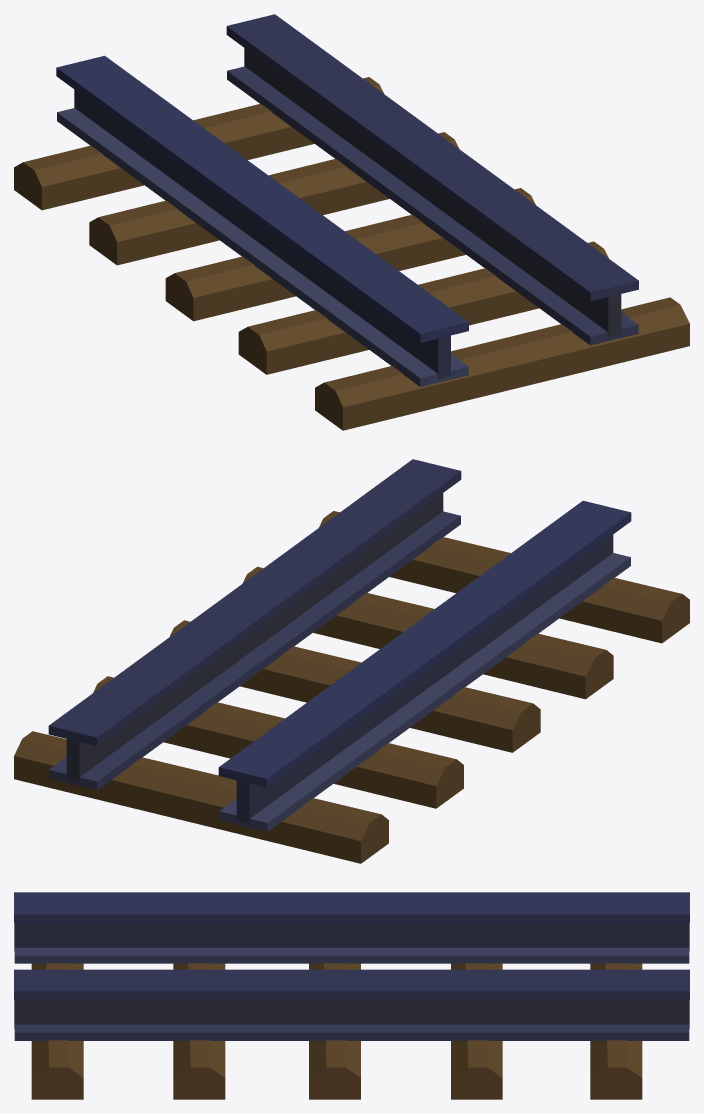
File: рельсы сегмент.fbx
The picture shows the model from 3 angles, top to bottom: view 1: azimuth 30°, elevation 25°; view 2: azimuth 150°, elevation 25°; view 3: azimuth 270°, elevation 25°; orthographic projection. The views are drawn at different scales.
Parts seen in each view (by area): view 1: Cube.002, Cube.001, Куб, Куб.001, Куб.002, Куб.003, Куб.004; view 2: Cube.001, Cube.002, Куб.004, Куб.002, Куб.001, Куб.003, Куб; view 3: Cube.001, Cube.002, Куб, Куб.004, Куб.001, Куб.002, Куб.003.
Boxes of the visible parts, left/top/right/bottom form: Cube.002: left=226, top=14, right=638, bottom=345; Cube.001: left=56, top=55, right=468, bottom=386; Куб: left=315, top=297, right=689, bottom=430; Куб.001: left=238, top=241, right=608, bottom=374; Куб.002: left=165, top=188, right=535, bottom=321; Куб.003: left=89, top=132, right=459, bottom=265; Куб.004: left=14, top=77, right=383, bottom=210; Cube.001: left=218, top=500, right=631, bottom=831; Cube.002: left=48, top=459, right=461, bottom=790; Куб.004: left=14, top=731, right=388, bottom=863; Куб.002: left=169, top=620, right=540, bottom=752; Куб.001: left=242, top=566, right=613, bottom=699; Куб.003: left=93, top=676, right=463, bottom=808; Куб: left=319, top=511, right=689, bottom=643; Cube.001: left=14, top=892, right=689, bottom=963; Cube.002: left=14, top=969, right=689, bottom=1040; Куб: left=31, top=963, right=83, bottom=1099; Куб.004: left=590, top=963, right=642, bottom=1099; Куб.001: left=173, top=963, right=225, bottom=1099; Куб.002: left=309, top=963, right=360, bottom=1099; Куб.003: left=451, top=963, right=502, bottom=1099.
Size of the model in its own units: 510 by 122 by 928.
